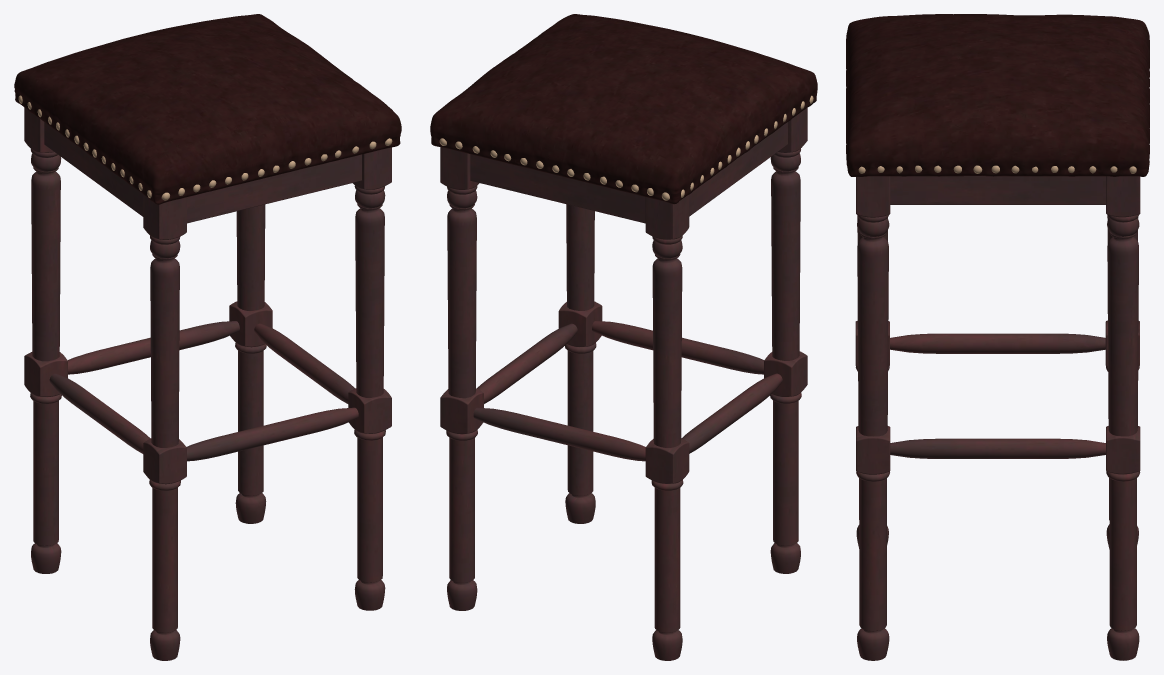
Rendered from abo-B07DBGPVCN.glb.
3 views of the same model, side by side, from view 1: azimuth 30°, elevation 25°; view 2: azimuth 150°, elevation 25°; view 3: azimuth 270°, elevation 25° (orthographic). The views are drawn at different scales.
Size of the model in its own units: 0.383 by 0.7679 by 0.383.
Materials: 1 (1 with a texture image).
